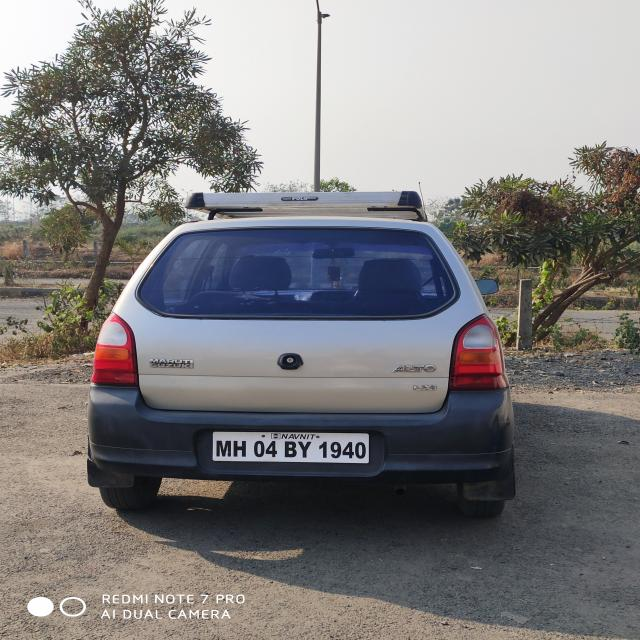Number-Plate: (214, 429, 370, 462)
